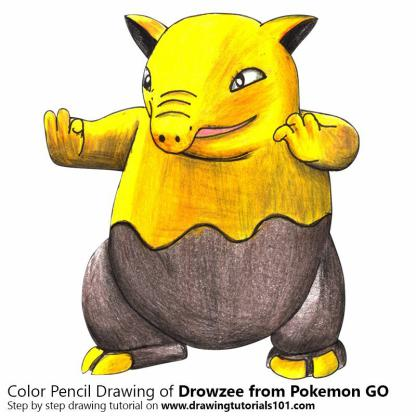Drowzee: (39, 1, 391, 381)
